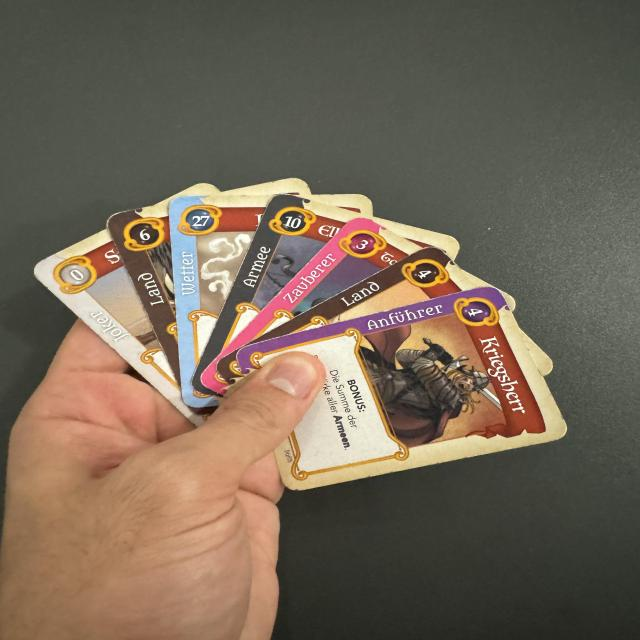Earth Elemental: (245, 244, 478, 345)
Elven Archers: (194, 192, 358, 376)
Mirage: (29, 230, 186, 416)
Necromancer: (216, 214, 424, 361)
Smoke: (171, 195, 270, 389)
Underground Caverns: (106, 204, 181, 390)
Warlord: (234, 285, 575, 493)
